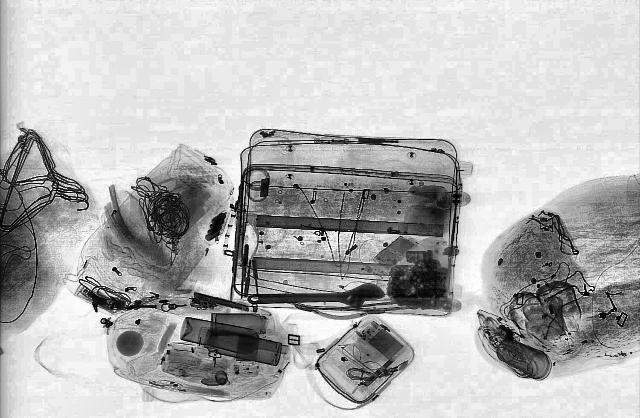Wrench: (247, 282, 386, 314)
